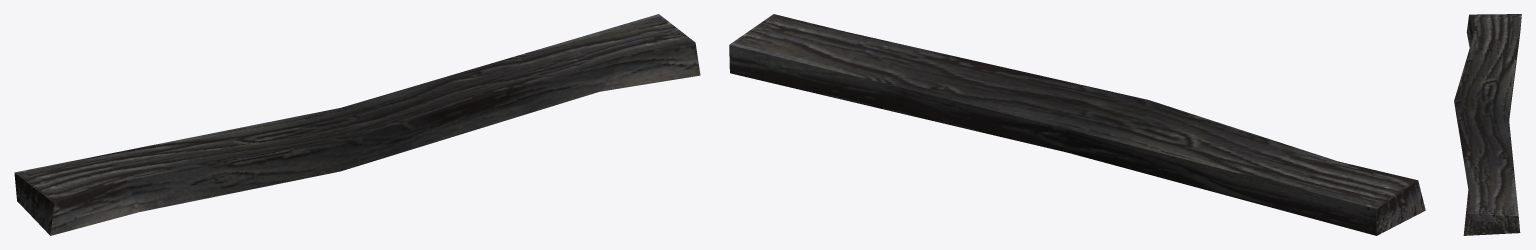
The model's file is Curved_Woodboard.obj.
The picture shows the model from 3 angles, left to right: view 1: azimuth 30°, elevation 25°; view 2: azimuth 150°, elevation 25°; view 3: azimuth 270°, elevation 25°; orthographic projection. The views are drawn at different scales.
Parts seen in each view (by area): view 1: Curved_Old_Woodboard_Cube.007; view 2: Curved_Old_Woodboard_Cube.007; view 3: Curved_Old_Woodboard_Cube.007.
Part boxes in pixels (x1,y1,x2,y2): Curved_Old_Woodboard_Cube.007: (14, 14, 700, 235); Curved_Old_Woodboard_Cube.007: (729, 14, 1425, 235); Curved_Old_Woodboard_Cube.007: (1454, 14, 1521, 235).
Size of the model in its own units: 2.01 by 0.1192 by 0.2789.
